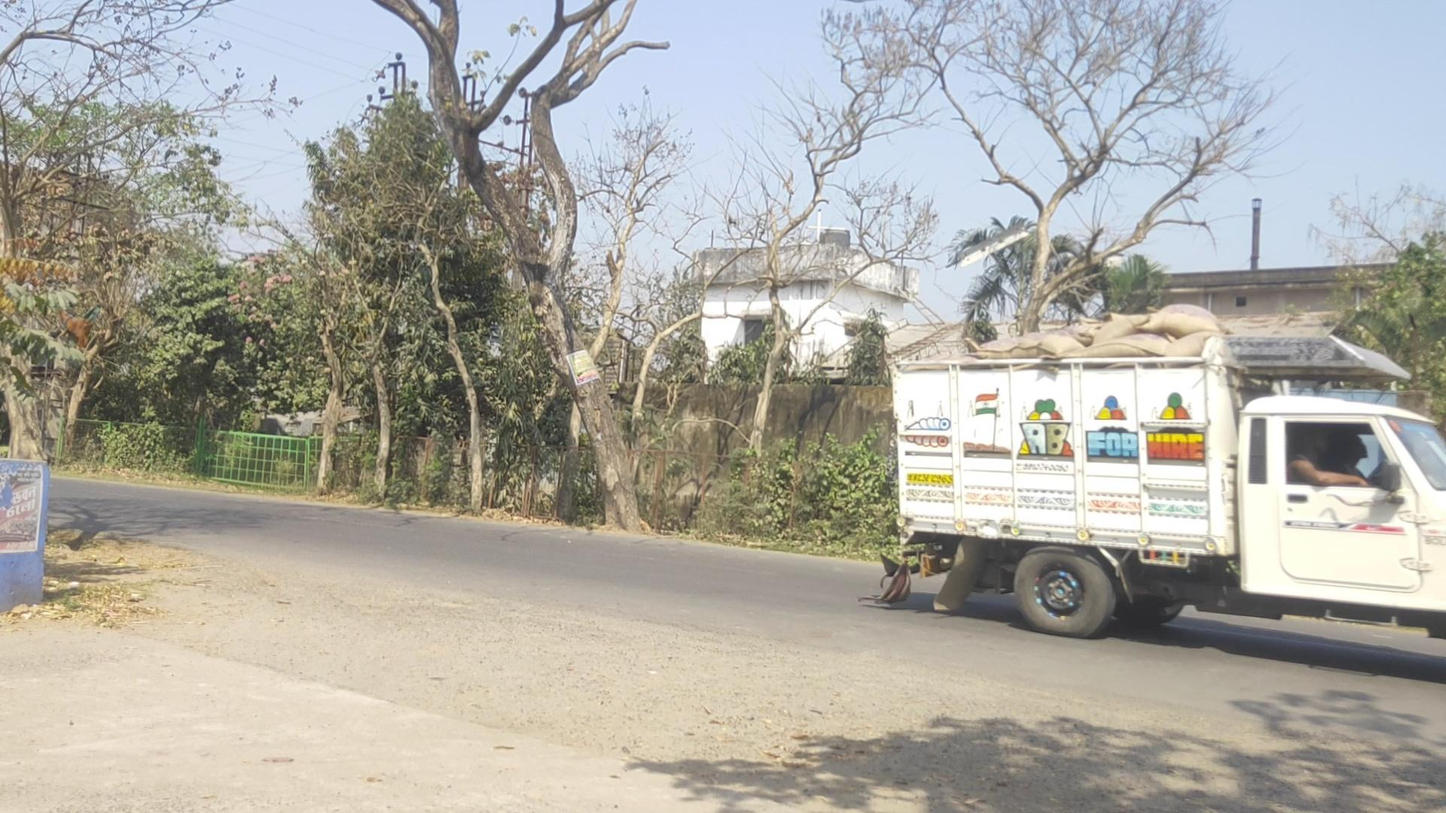van: (889, 301, 1446, 638)
